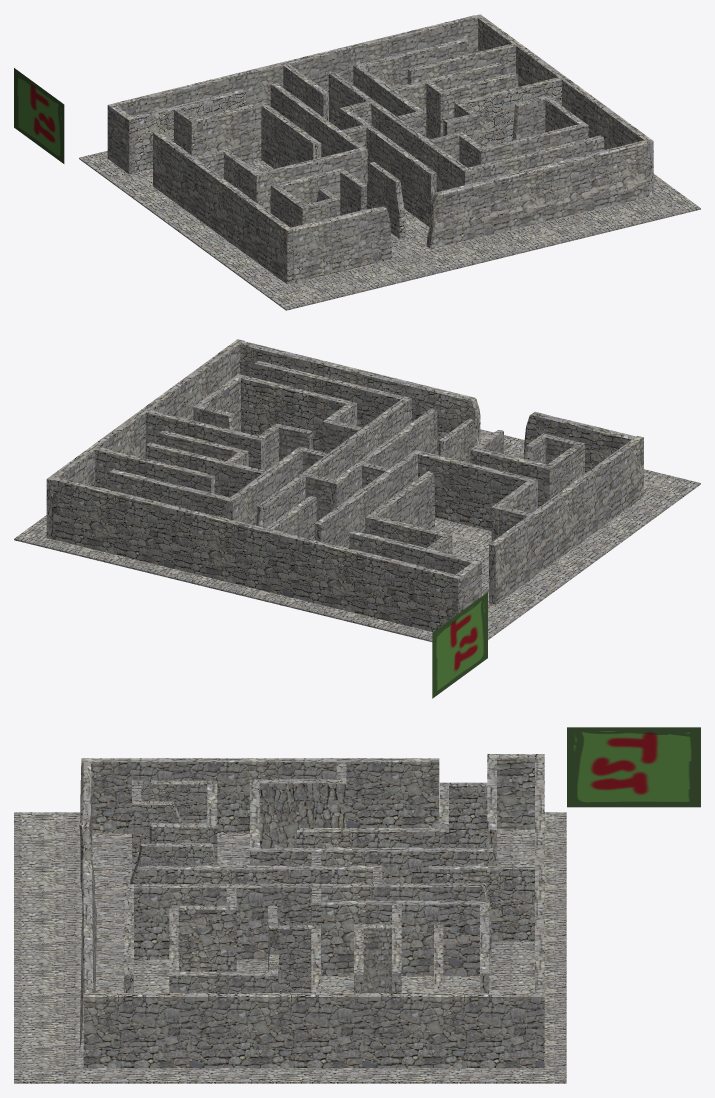
File: 3labirint.gltf
3 views of the same model, one above another, from view 1: azimuth 30°, elevation 25°; view 2: azimuth 150°, elevation 25°; view 3: azimuth 270°, elevation 25° (orthographic). The views are drawn at different scales.
Visible parts, largest first — view 1: tla, wall.035, wall.040, wall.030, wall.01, wall.02, wall.010, wall.08, Trigger.001, wall.026, wall.041, wall.029 (+25 smaller); view 2: wall.030, tla, wall.040, wall.02, wall.035, wall.05, wall.016, wall.010, Trigger.001, wall.06, wall.019, wall.08 (+25 smaller); view 3: tla, wall.02, wall.040, wall.010, Trigger.001, wall.012, wall.06, wall.04, wall.031, wall.08, wall.015, wall.032 (+22 smaller).
Part boxes in pixels (x1=…): tla: x1=79, y1=137, x2=700, y2=310; wall.035: x1=426, y1=140, x2=648, y2=248; wall.040: x1=153, y1=131, x2=293, y2=284; wall.030: x1=114, y1=15, x2=477, y2=116; wall.01: x1=291, y1=206, x2=392, y2=282; wall.02: x1=475, y1=14, x2=653, y2=195; wall.010: x1=328, y1=72, x2=467, y2=191; wall.08: x1=339, y1=106, x2=436, y2=226; Trigger.001: x1=14, y1=68, x2=64, y2=163; wall.026: x1=194, y1=103, x2=261, y2=163; wall.041: x1=454, y1=77, x2=561, y2=147; wall.029: x1=131, y1=89, x2=245, y2=172; wall.030: x1=53, y1=477, x2=455, y2=631; tla: x1=14, y1=429, x2=700, y2=641; wall.040: x1=489, y1=436, x2=643, y2=604; wall.02: x1=46, y1=339, x2=243, y2=539; wall.035: x1=240, y1=341, x2=481, y2=451; wall.05: x1=418, y1=451, x2=537, y2=531; wall.016: x1=241, y1=375, x2=356, y2=451; wall.010: x1=256, y1=399, x2=407, y2=527; Trigger.001: x1=432, y1=592, x2=487, y2=698; wall.06: x1=314, y1=450, x2=421, y2=548; wall.019: x1=254, y1=361, x2=411, y2=427; wall.08: x1=330, y1=409, x2=437, y2=511; tla: x1=14, y1=812, x2=566, y2=1083; wall.02: x1=83, y1=993, x2=544, y2=1067; wall.040: x1=81, y1=758, x2=439, y2=833; wall.010: x1=134, y1=883, x2=491, y2=959; Trigger.001: x1=567, y1=727, x2=700, y2=807; wall.012: x1=321, y1=900, x2=489, y2=975; wall.06: x1=250, y1=847, x2=492, y2=883; wall.04: x1=260, y1=779, x2=346, y2=847; wall.031: x1=428, y1=865, x2=534, y2=941; wall.08: x1=139, y1=865, x2=382, y2=884; wall.015: x1=178, y1=905, x2=236, y2=971; wall.032: x1=296, y1=827, x2=448, y2=847.
Bounding box in the file's own units: 422 × 56.22 × 439.
Materials: 2 (2 with a texture image).
